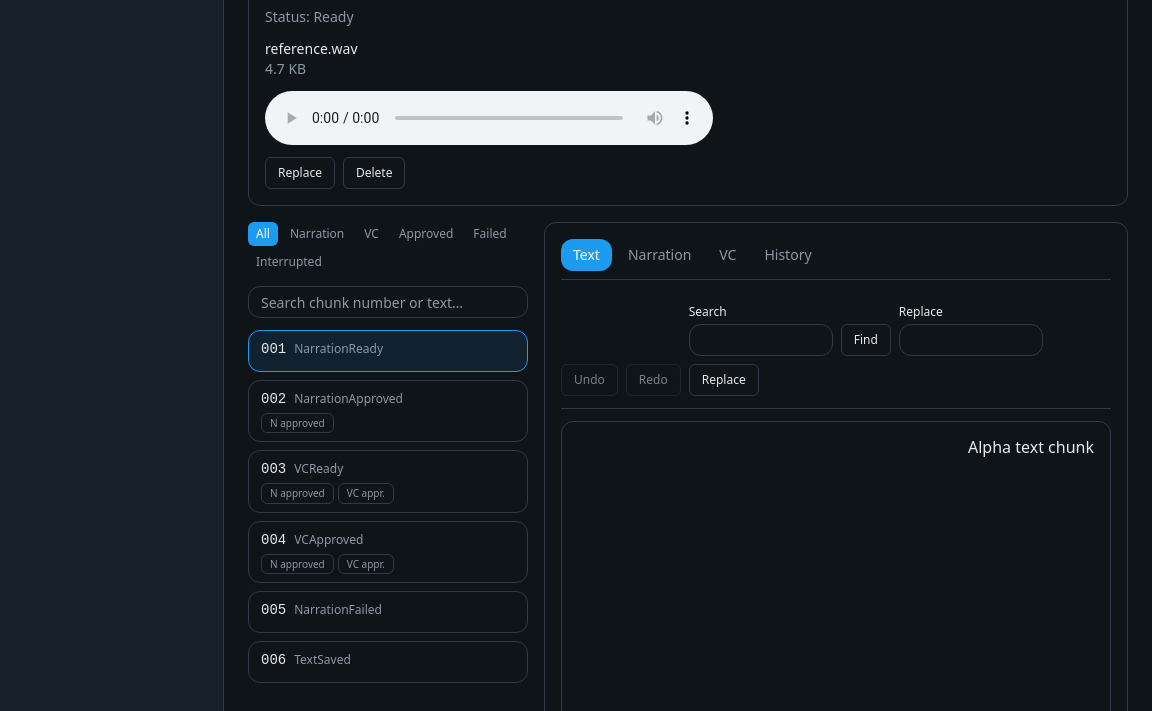
Scenario: E8.1-C Part Workspace › 5. text save shows toast
The width and height of the screenshot is (1152, 711).
(page scrolled)
Click the button with test id "chunk-row-1": (339,348) [248,330,528,372]
(page scrolled)
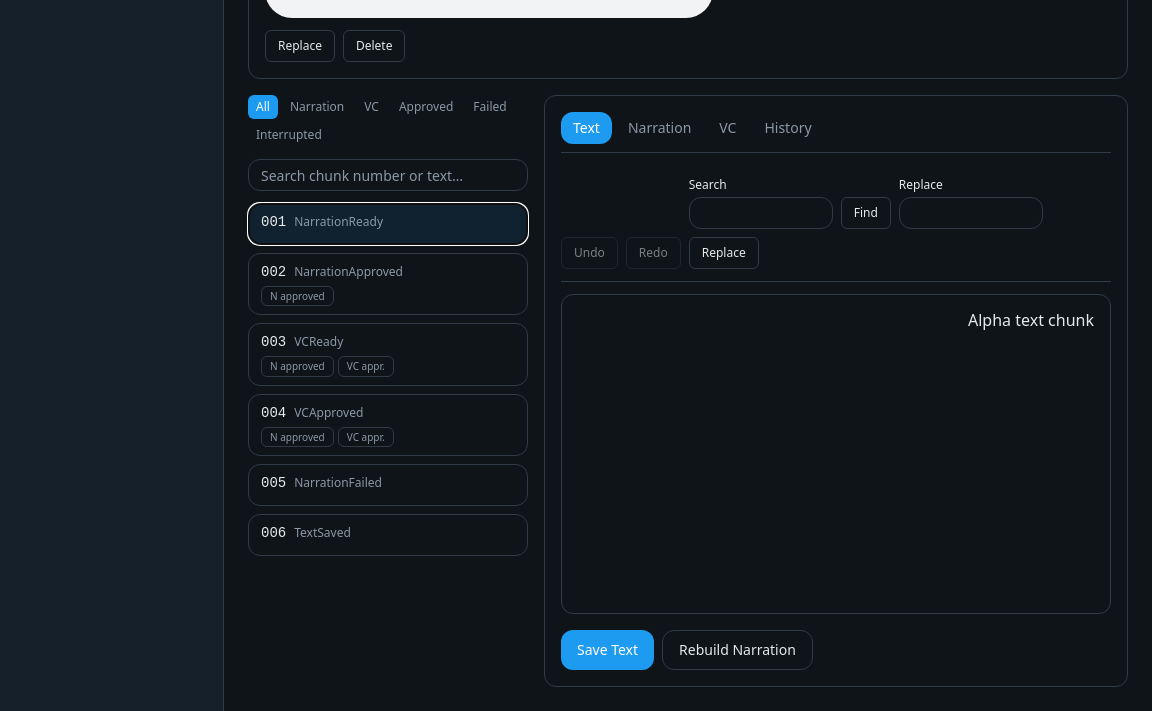
Check: the element with test id "text-tab" is shown, box [561,177,1111,670]
Click the button "Save Text": (608,650) [561,630,654,670]
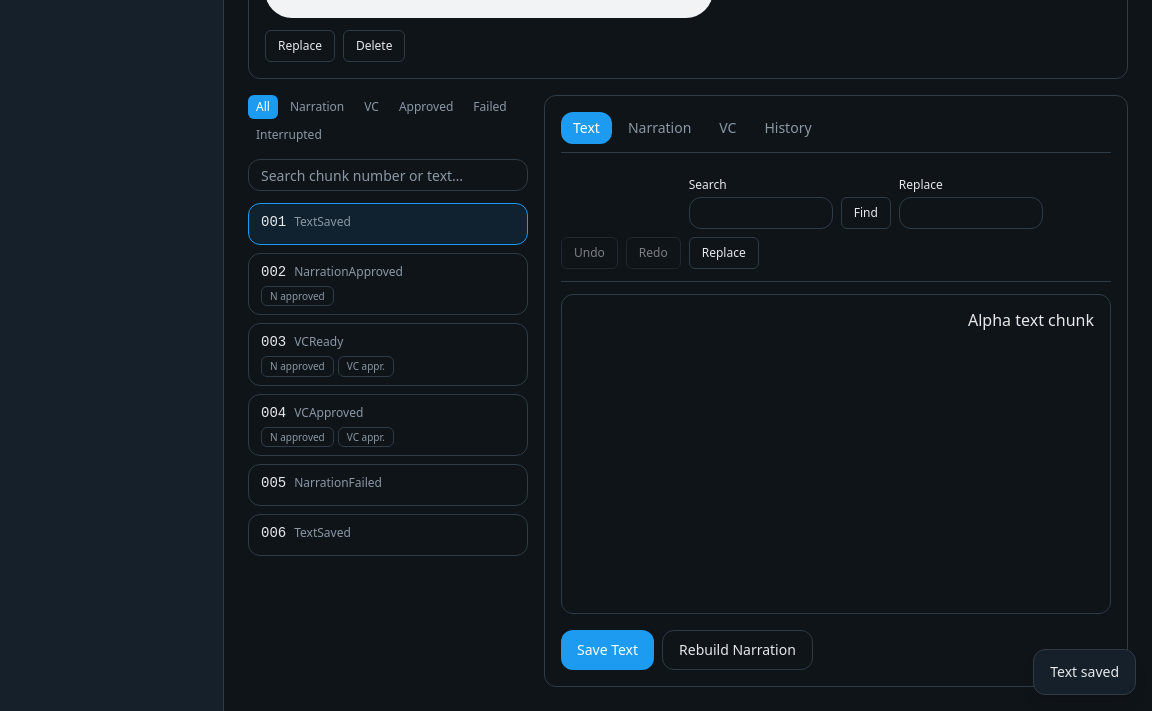
Check: the text "Text saved" is shown, box [1050,662,1119,682]
